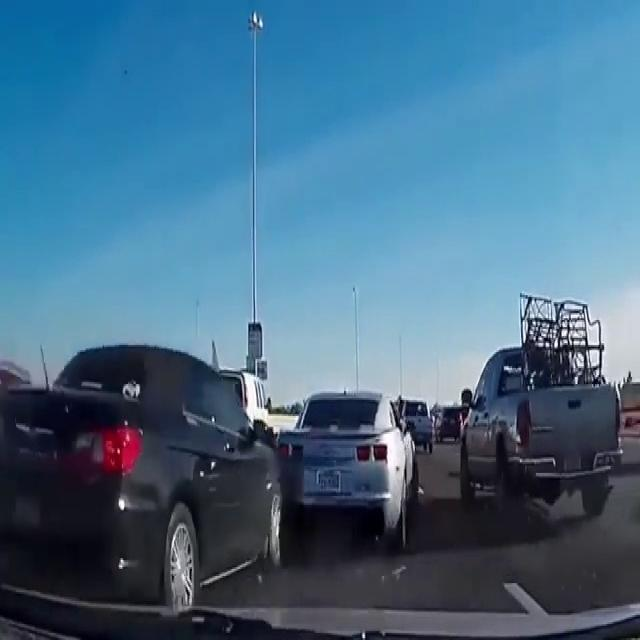moderate: (0, 329, 419, 613)
